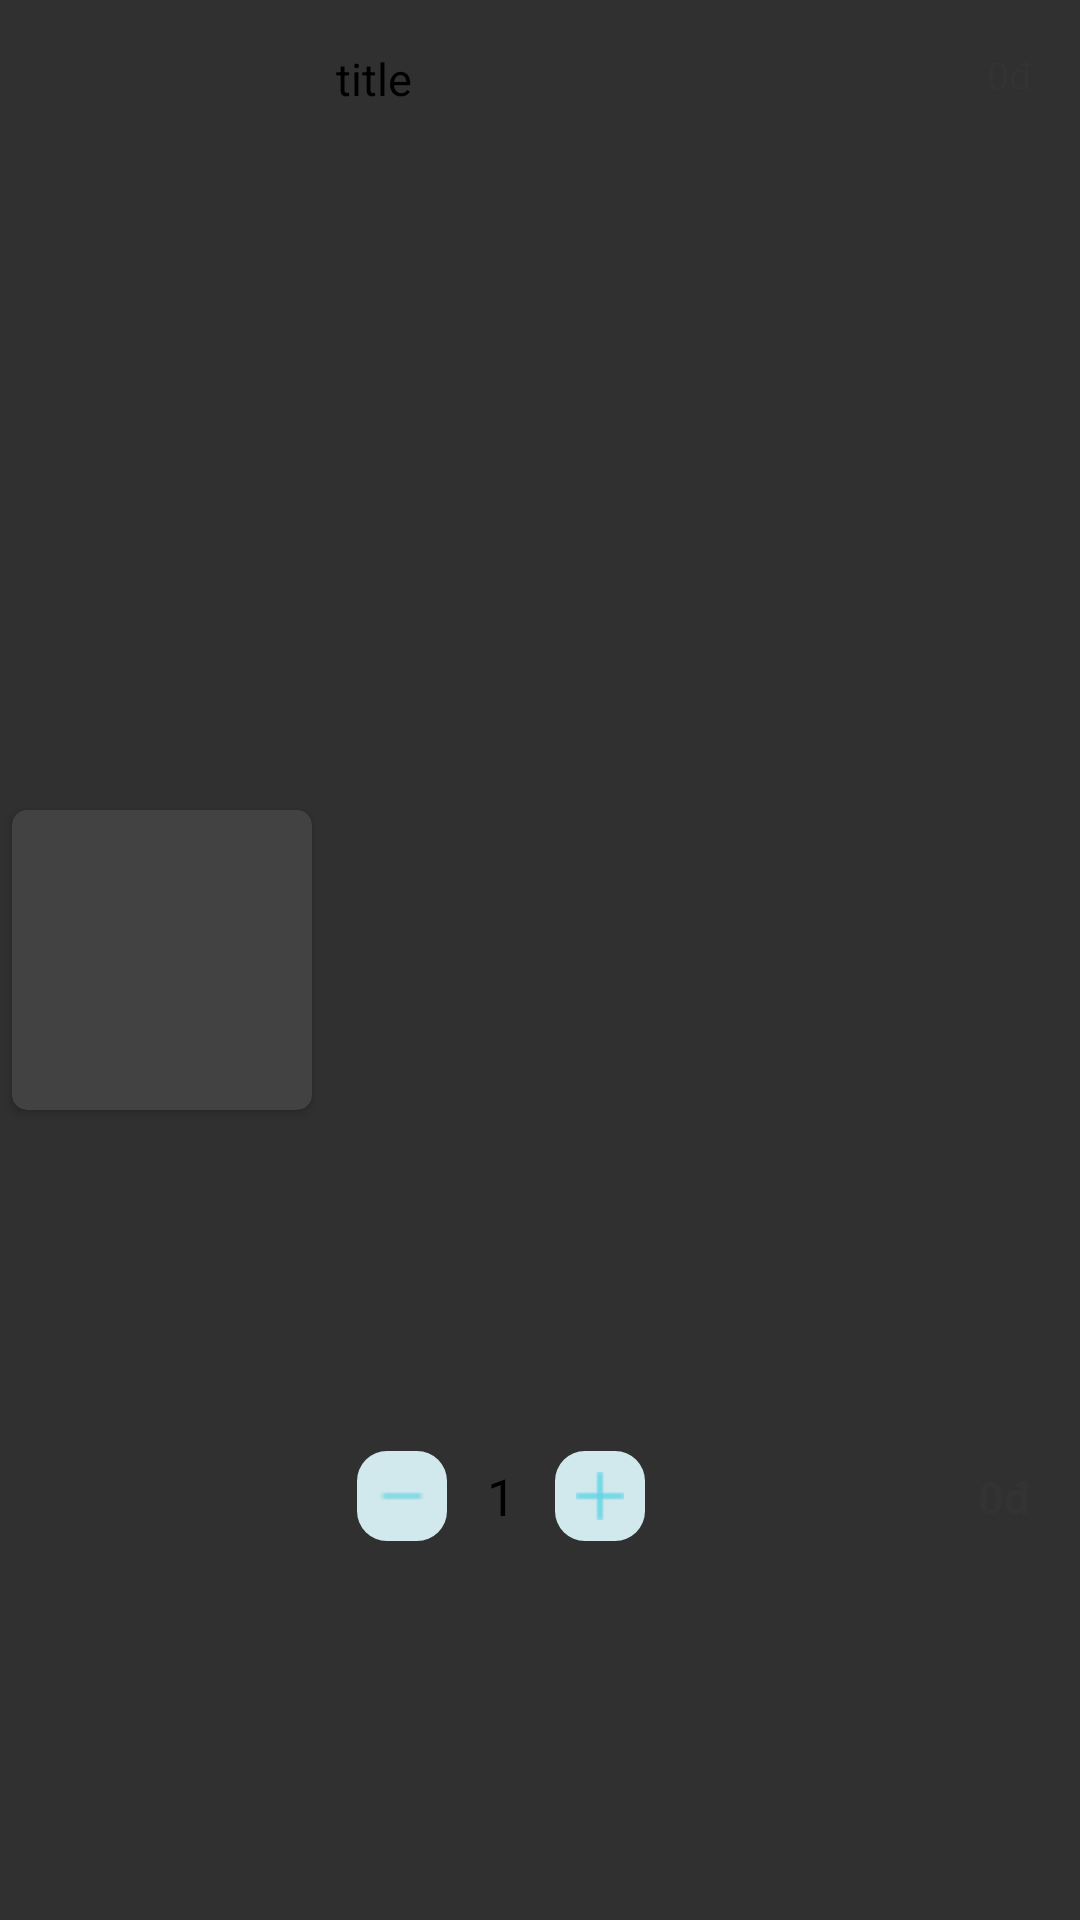

Icons on this 1080×1920 Android screen, each with the point to tap as [x,y]:
minus: [402,1496]
plus: [600,1496]
